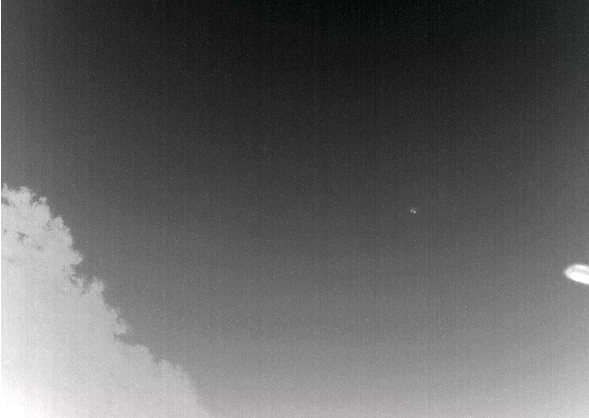dim target: (408, 205, 418, 216)
